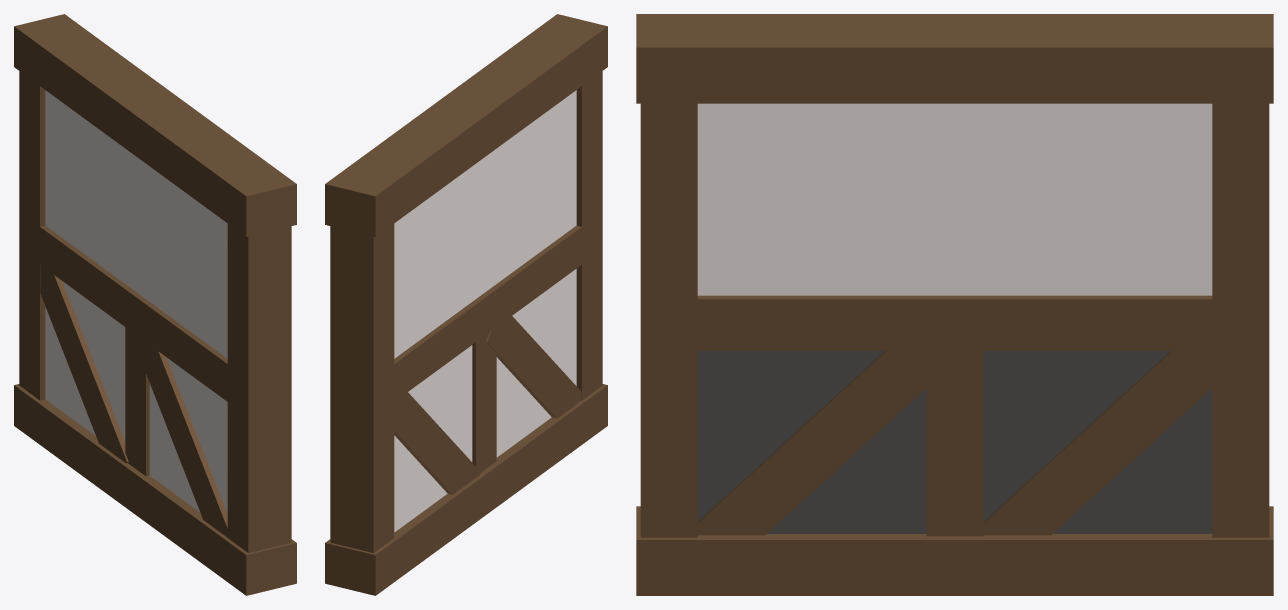
File: Wall08.fbx
The picture shows the model from 3 angles, left to right: view 1: azimuth 30°, elevation 25°; view 2: azimuth 150°, elevation 25°; view 3: azimuth 270°, elevation 25°; orthographic projection. The views are drawn at different scales.
Parts seen in each view (by area): view 1: Wall_06; view 2: Wall_06; view 3: Wall_06.
Boxes of the visible parts, x1,y1,x2,y2 form: Wall_06: [14, 14, 296, 595]; Wall_06: [325, 14, 607, 595]; Wall_06: [636, 14, 1273, 595].
Bounding box in the file's own units: 28 × 212 × 223.
